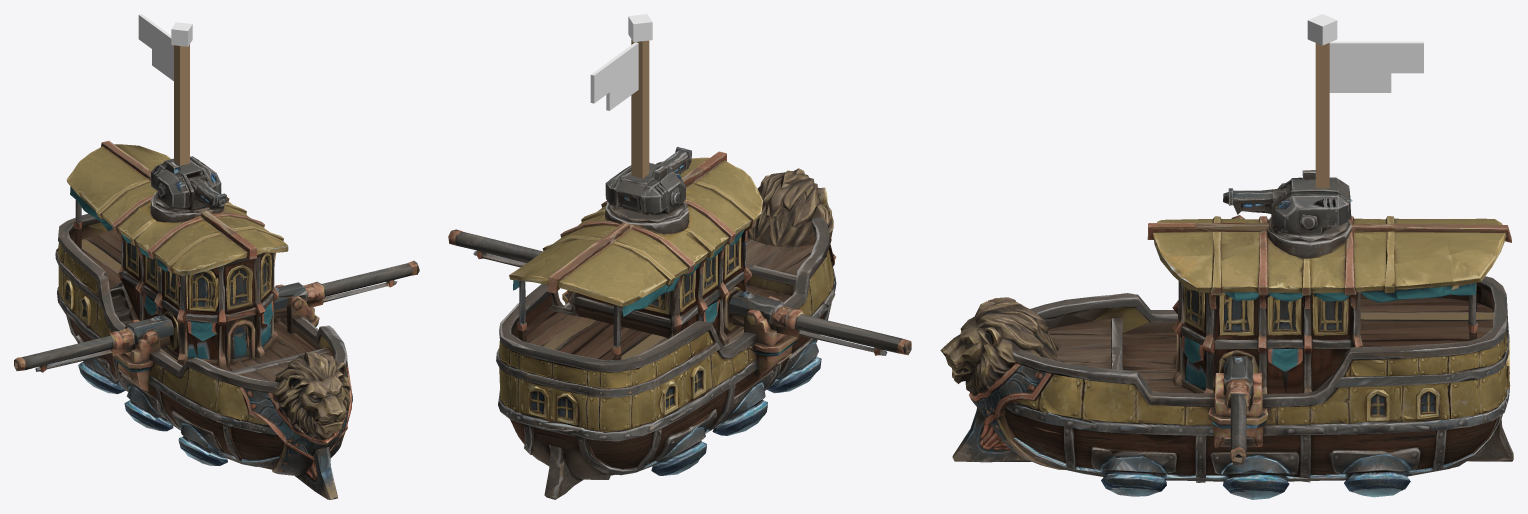
File: tide_bucentaur.glb
3 views of the same model, side by side, from view 1: azimuth 30°, elevation 25°; view 2: azimuth 150°, elevation 25°; view 3: azimuth 270°, elevation 25° (orthographic). The views are drawn at different scales.
Visible parts, largest first — view 1: tide_bucentaur, Team_pennant; view 2: tide_bucentaur, Team_pennant; view 3: tide_bucentaur, Team_pennant.
Part boxes in pixels (x1,y1,x2,y2): tide_bucentaur: (14, 141, 419, 499); Team_pennant: (138, 14, 192, 165); tide_bucentaur: (448, 147, 911, 499); Team_pennant: (590, 14, 652, 178); tide_bucentaur: (940, 170, 1513, 499); Team_pennant: (1307, 14, 1423, 188).
Size of the model in its own units: 0.96 by 0.8496 by 0.9792.
Materials: 3 (1 with a texture image).
